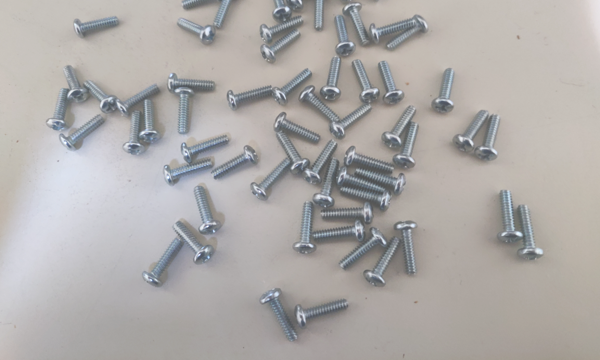shortscrew: (339, 227, 388, 271), (260, 289, 298, 343), (143, 238, 183, 288), (364, 236, 401, 288), (171, 221, 214, 265), (59, 114, 105, 152), (302, 139, 339, 185), (251, 159, 292, 200), (210, 147, 259, 181), (295, 299, 350, 329), (276, 129, 311, 176), (517, 204, 545, 262), (272, 68, 313, 107), (382, 106, 418, 150), (329, 104, 372, 140), (273, 112, 321, 144), (115, 84, 161, 117), (299, 85, 340, 122), (387, 15, 429, 51), (454, 110, 489, 153), (181, 135, 231, 165), (355, 166, 406, 195), (497, 190, 524, 244), (261, 29, 301, 65), (163, 159, 214, 187), (341, 184, 392, 212), (336, 166, 387, 194), (345, 146, 395, 174), (193, 187, 222, 235), (313, 158, 340, 208), (321, 201, 374, 226), (352, 59, 381, 104), (475, 114, 502, 161), (260, 16, 305, 44), (313, 219, 365, 243), (395, 221, 418, 275), (343, 2, 371, 46), (393, 122, 419, 169), (227, 84, 274, 110), (293, 201, 316, 254), (431, 68, 456, 114), (370, 19, 416, 44), (379, 61, 405, 105), (62, 65, 91, 104), (85, 79, 118, 113), (177, 18, 217, 46), (74, 15, 120, 39), (46, 88, 71, 132), (175, 87, 196, 135), (167, 73, 216, 93), (123, 112, 145, 156), (140, 100, 162, 143), (321, 57, 342, 101), (335, 15, 356, 57), (213, 0, 239, 28), (311, 0, 331, 32), (270, 0, 292, 24), (181, 0, 225, 11), (286, 0, 323, 12), (343, 0, 384, 2), (323, 0, 357, 2)
